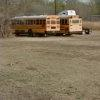Bus: (12, 9, 84, 38)
